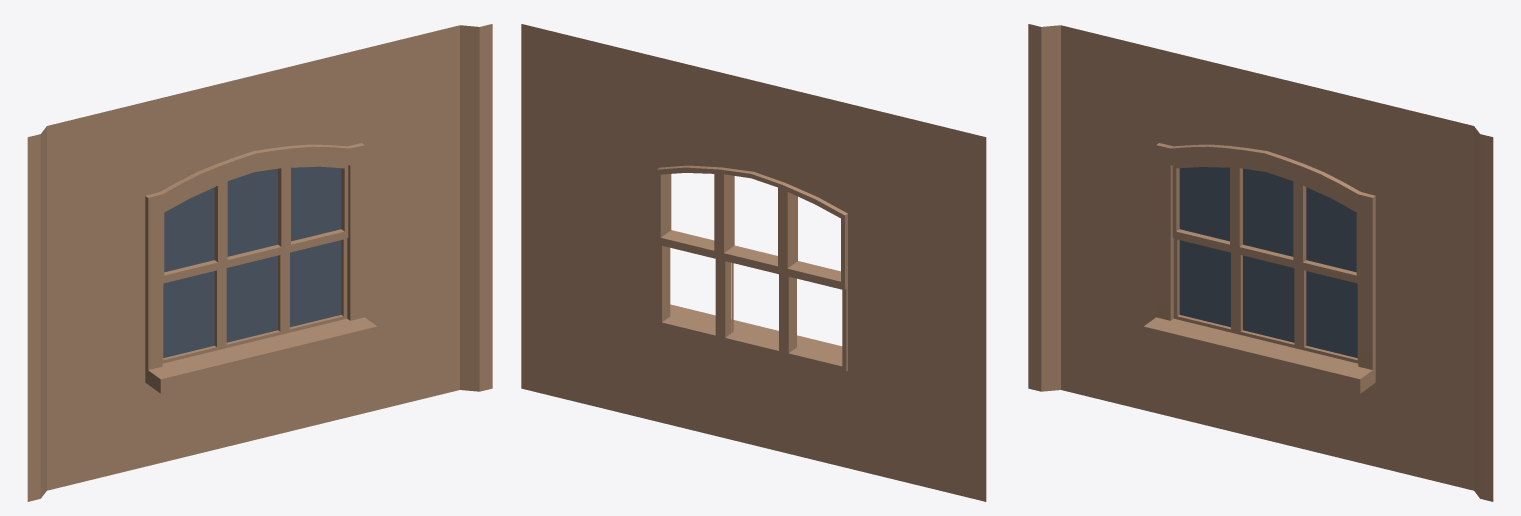
The model's file is env_block_brick_inset_window_curved.glb.
3 views of the same model, side by side, from view 1: azimuth 30°, elevation 25°; view 2: azimuth 150°, elevation 25°; view 3: azimuth 330°, elevation 25° (orthographic).
Visible parts, largest first — view 1: part_0, part_1; view 2: part_0; view 3: part_0, part_1.
Boxes of the visible parts, left/top/right/bottom form: part_0: left=27, top=24, right=492, bottom=501; part_1: left=163, top=166, right=341, bottom=357; part_0: left=521, top=24, right=986, bottom=501; part_0: left=1028, top=24, right=1493, bottom=501; part_1: left=1179, top=167, right=1357, bottom=357.
Bounding box in the file's own units: 4 × 3 × 0.3737.
